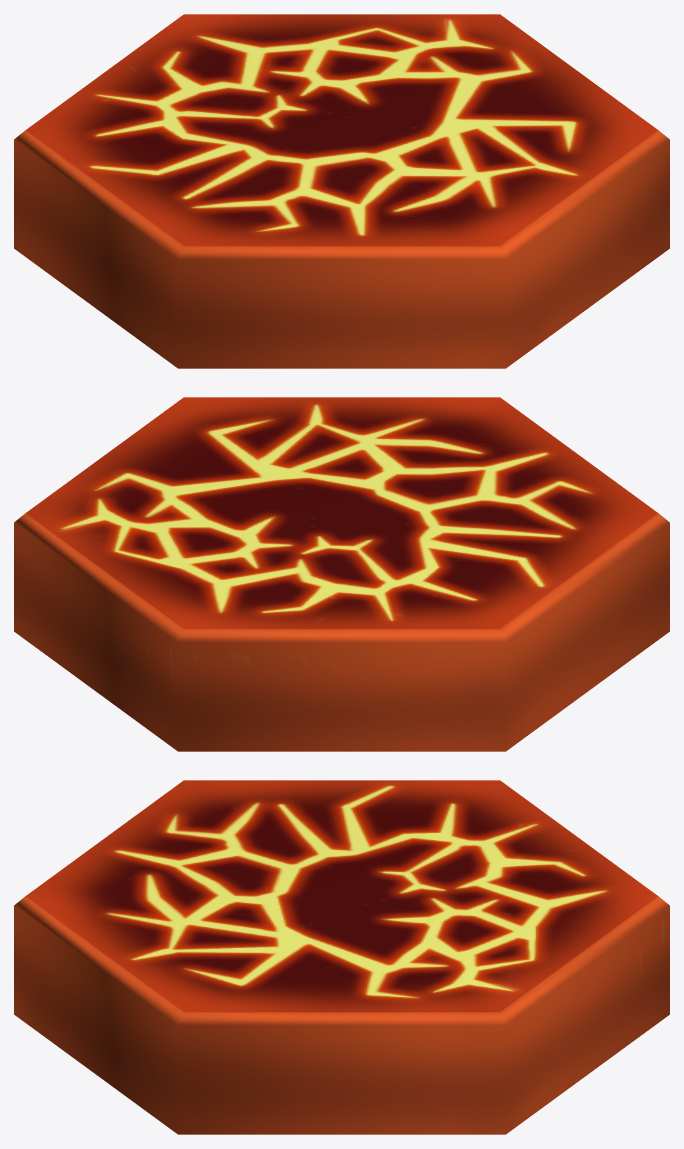
The model's file is lava.fbx.
3 renders of one model, top to bottom at view 1: azimuth 30°, elevation 25°; view 2: azimuth 150°, elevation 25°; view 3: azimuth 270°, elevation 25°, orthographic.
Parts seen in each view (by area): view 1: Lava2; view 2: Lava2; view 3: Lava2.
Part boxes in pixels (x1,y1,x2,y2): Lava2: (14,14,669,368); Lava2: (14,397,669,751); Lava2: (14,780,669,1134).
Size of the model in its own units: 83.34 by 19.14 by 96.24.
Materials: 1 (1 with a texture image).
